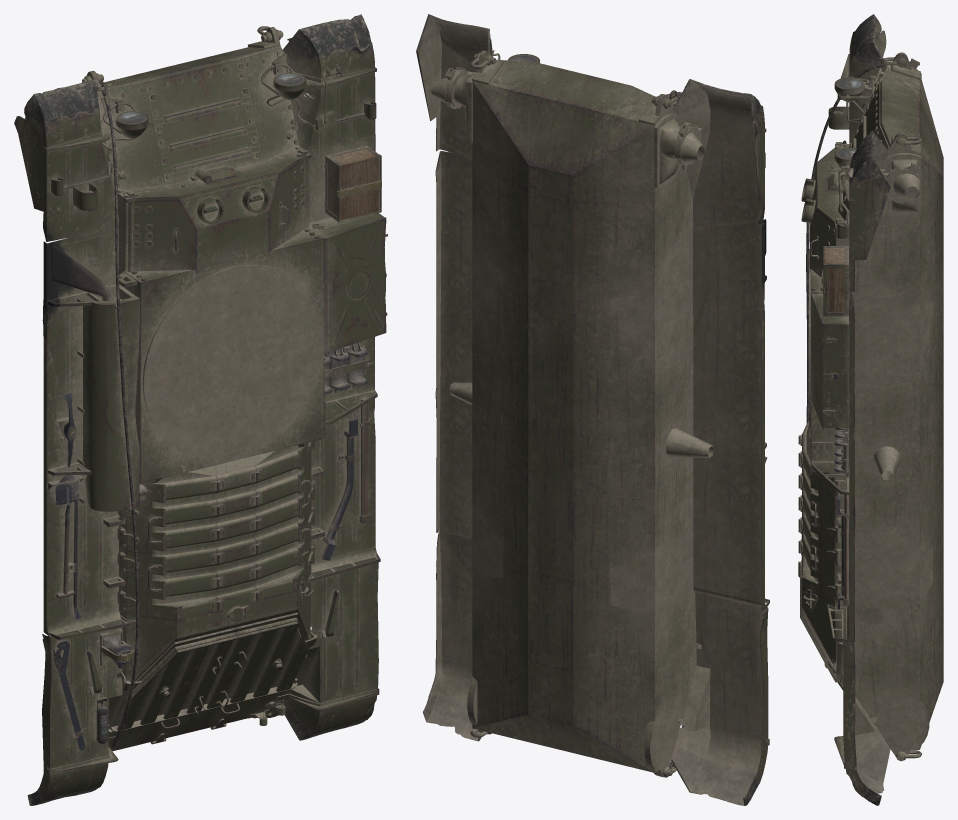
Rendered from Hull.glb.
The picture shows the model from 3 angles, left to right: view 1: azimuth 30°, elevation 25°; view 2: azimuth 150°, elevation 25°; view 3: azimuth 270°, elevation 25°; orthographic projection. The views are drawn at different scales.
Parts seen in each view (by area): view 1: set_0_group_0; view 2: set_0_group_0; view 3: set_0_group_0.
Boxes of the visible parts, left/top/right/bottom form: set_0_group_0: left=14, top=14, right=387, bottom=805; set_0_group_0: left=416, top=14, right=769, bottom=805; set_0_group_0: left=798, top=14, right=943, bottom=805.
Size of the model in its own units: 2.74 by 5.47 by 1.1.
1 material, 1 textured.
